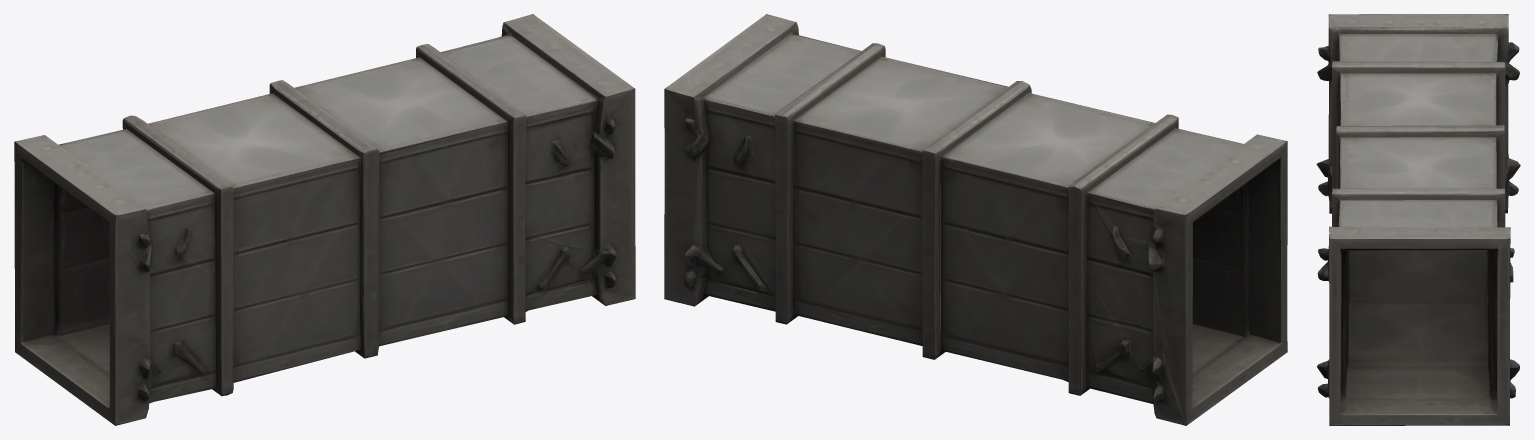
File: vent-tunnel.glb
3 views of the same model, side by side, from view 1: azimuth 30°, elevation 25°; view 2: azimuth 150°, elevation 25°; view 3: azimuth 270°, elevation 25° (orthographic). The views are drawn at different scales.
Parts seen in each view (by area): view 1: geometry_0; view 2: geometry_0; view 3: geometry_0.
Part boxes in pixels (x1,y1,x2,y2): geometry_0: (14, 14, 635, 425); geometry_0: (664, 14, 1287, 425); geometry_0: (1316, 14, 1520, 425).
Size of the model in its own units: 0.9989 by 0.388 by 0.3824.
Materials: 1 (1 with a texture image).
